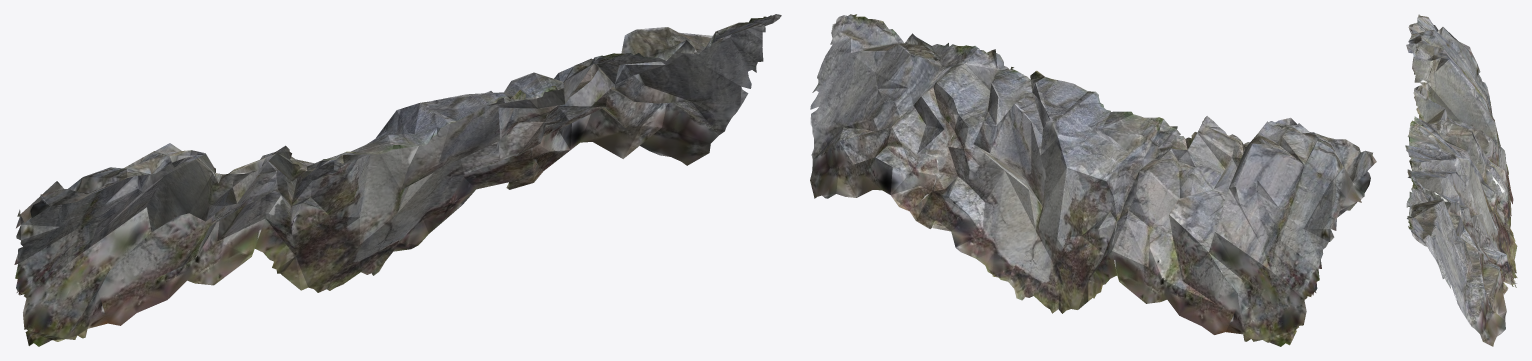
The model's file is rock_06.glb.
The picture shows the model from 3 angles, left to right: view 1: azimuth 30°, elevation 25°; view 2: azimuth 150°, elevation 25°; view 3: azimuth 270°, elevation 25°; orthographic projection. The views are drawn at different scales.
Visible parts, largest first — view 1: Rock_06_A_LOD3; view 2: Rock_06_A_LOD3; view 3: Rock_06_A_LOD3.
Boxes of the visible parts, x1,y1,x2,y2 form: Rock_06_A_LOD3: (14,14,781,346); Rock_06_A_LOD3: (810,14,1376,346); Rock_06_A_LOD3: (1405,14,1517,346).
Bounding box in the file's own units: 3.53 × 1.17 × 0.7379.
1 material, 1 textured.
